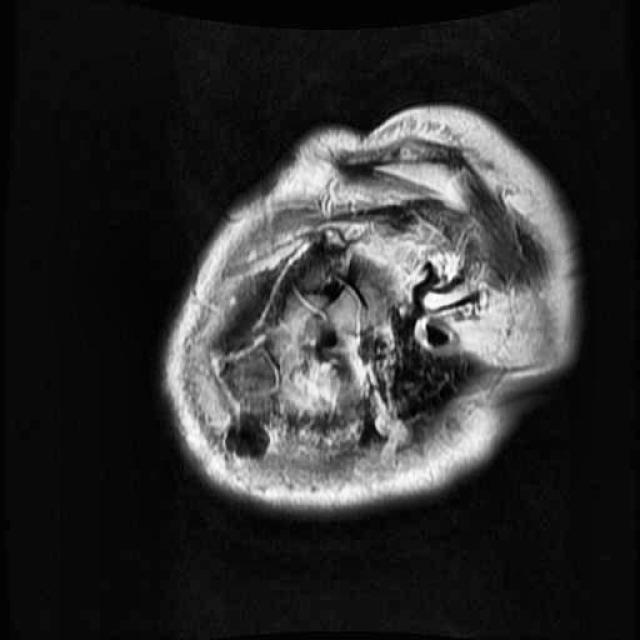Non-Tumor: (271, 290, 358, 421)
